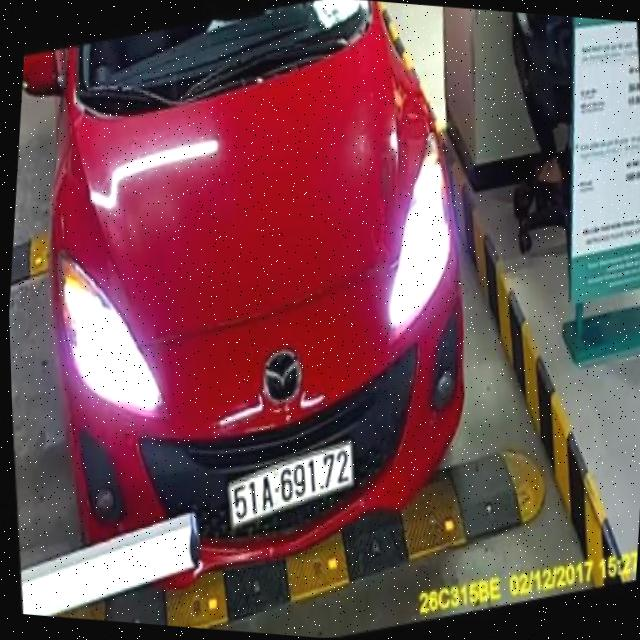car: (0, 0, 511, 617)
plate: (220, 426, 361, 539)
